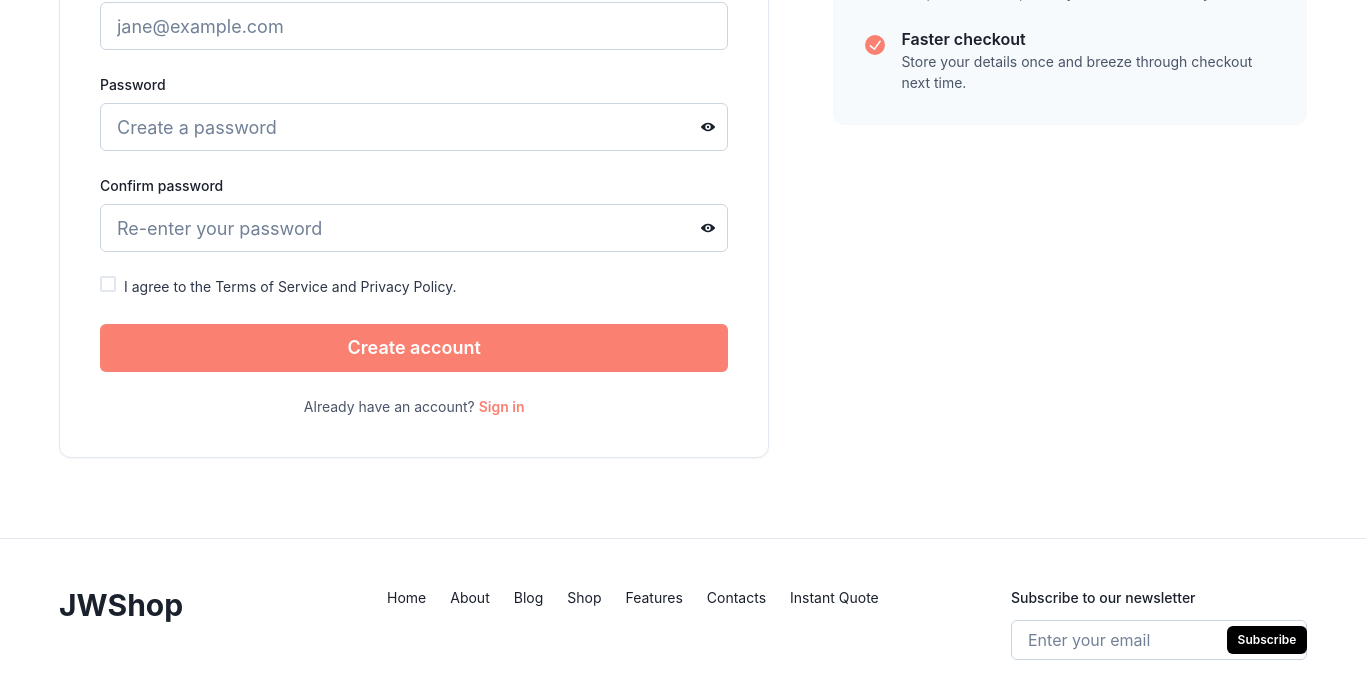
Test: RegisterPage component › blocks submission and shows all validation errors when the form is empty
(page scrolled)
Click the button "Create account".
click(414, 348)  # box [100,324,728,372]
(page scrolled)
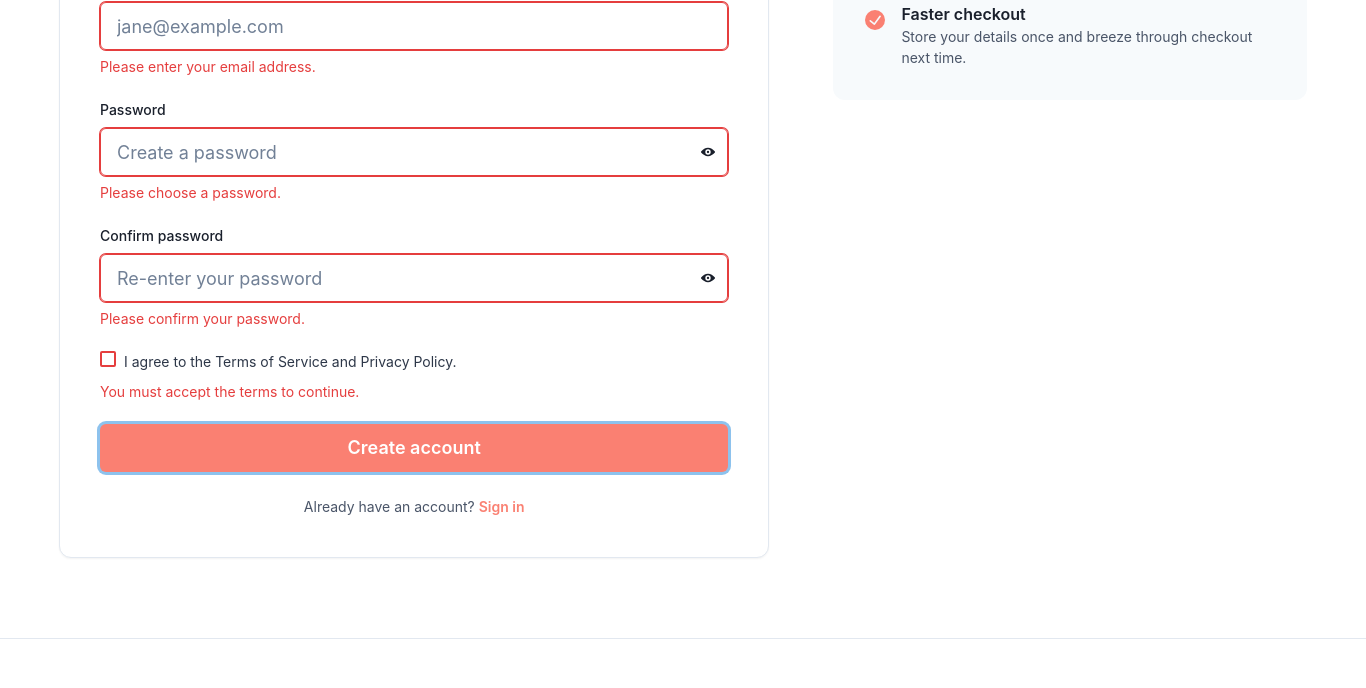
Expected: the text "Please enter your email address." is shown, [100,58,316,75]
Expected: the text "Please choose a password." is shown, [100,184,281,201]
Expected: the text "You must accept the terms to continue." is shown, [100,383,359,400]
